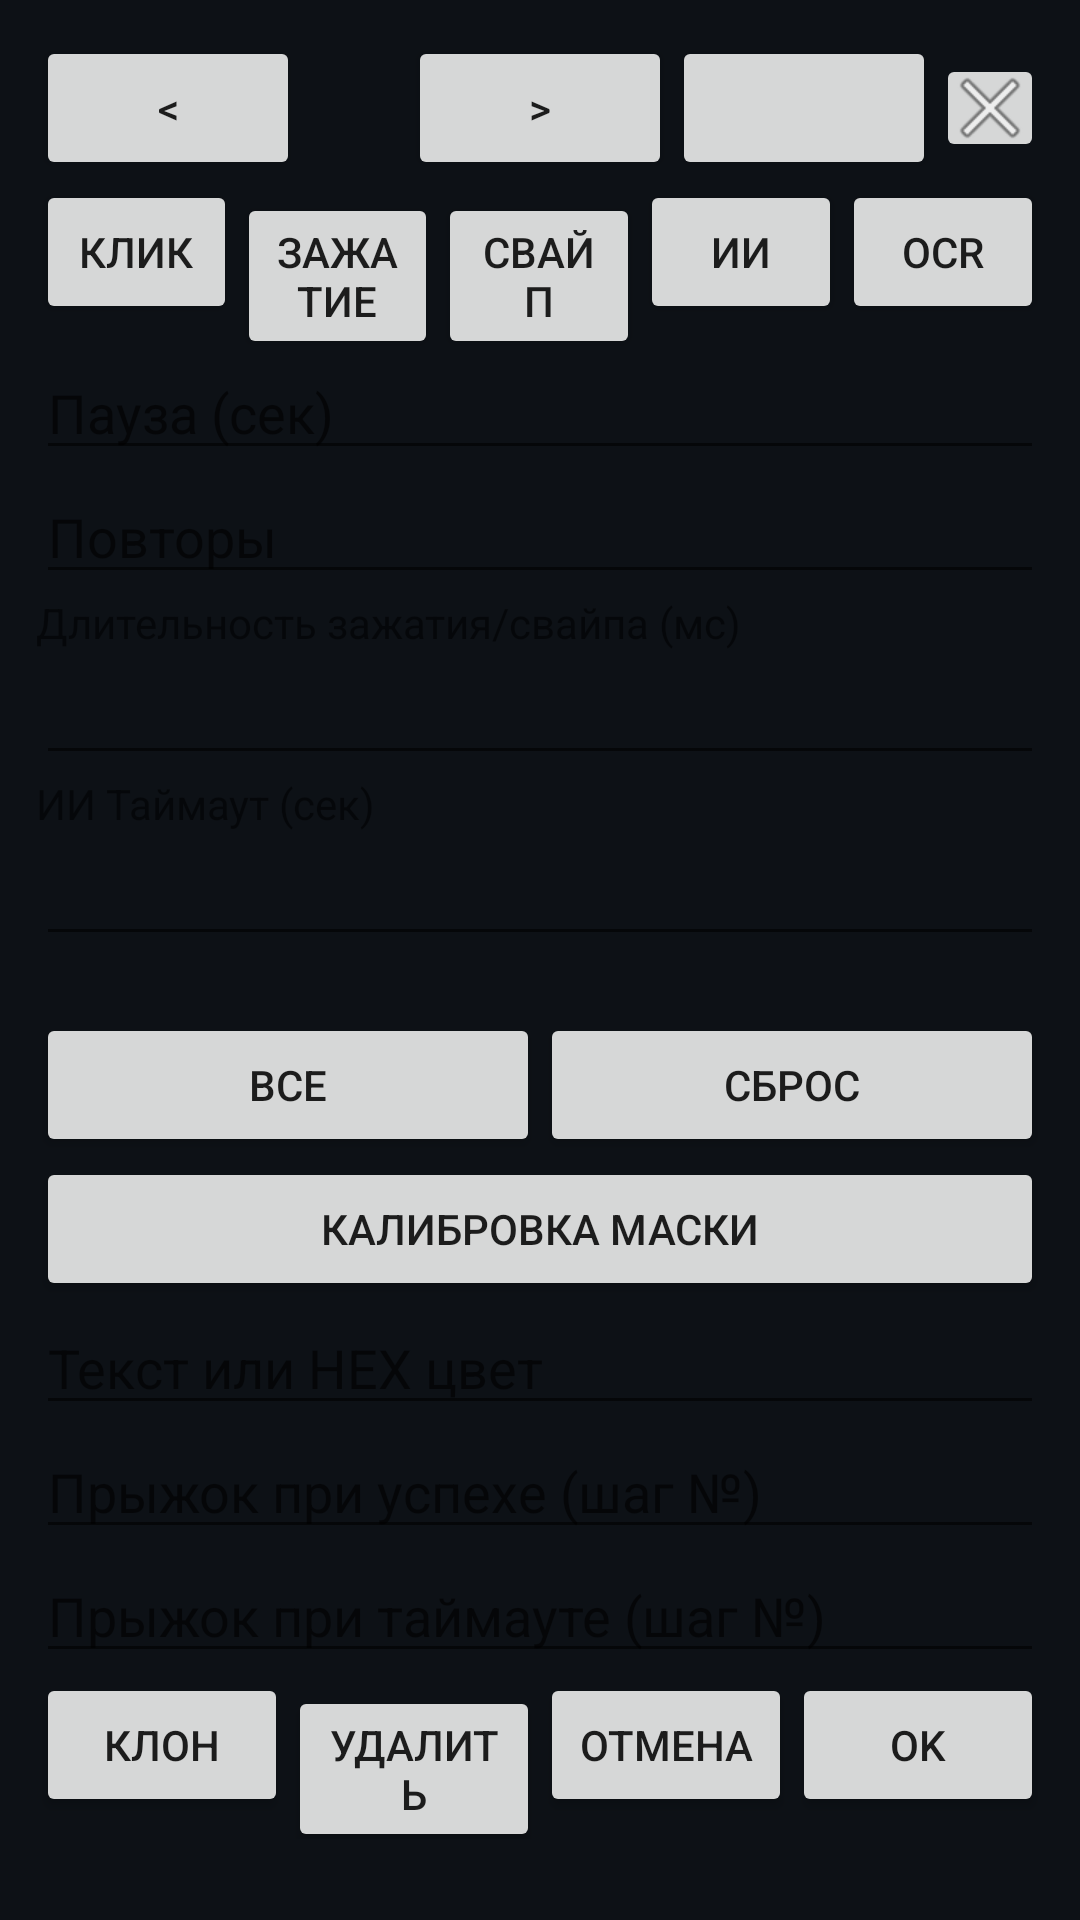

Icon bounding boxes for this 1080px×1920px phone screenshot, format (x1, y1, x2, y2):
close clear cancel: (948, 72, 1032, 144)
